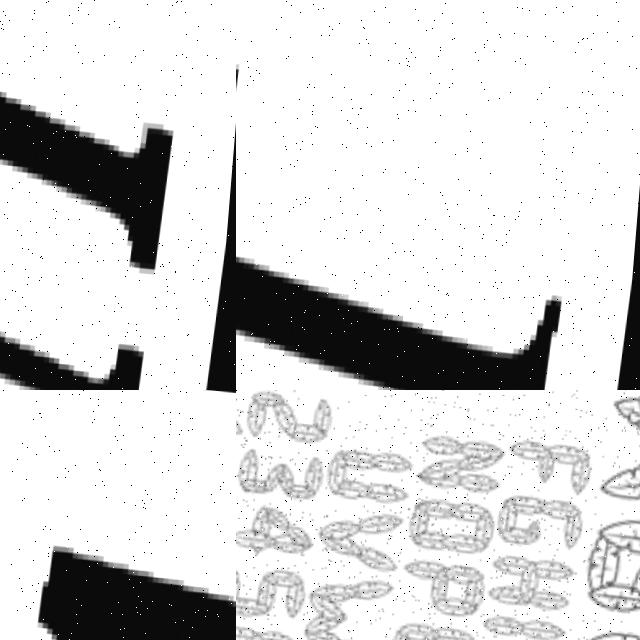2: (246, 390, 338, 439)
3: (240, 442, 332, 498)
4: (236, 496, 324, 561)
5: (0, 502, 236, 640), (236, 562, 313, 621)
6: (236, 623, 307, 640)
J: (236, 3, 608, 390)
U: (0, 0, 201, 390)
